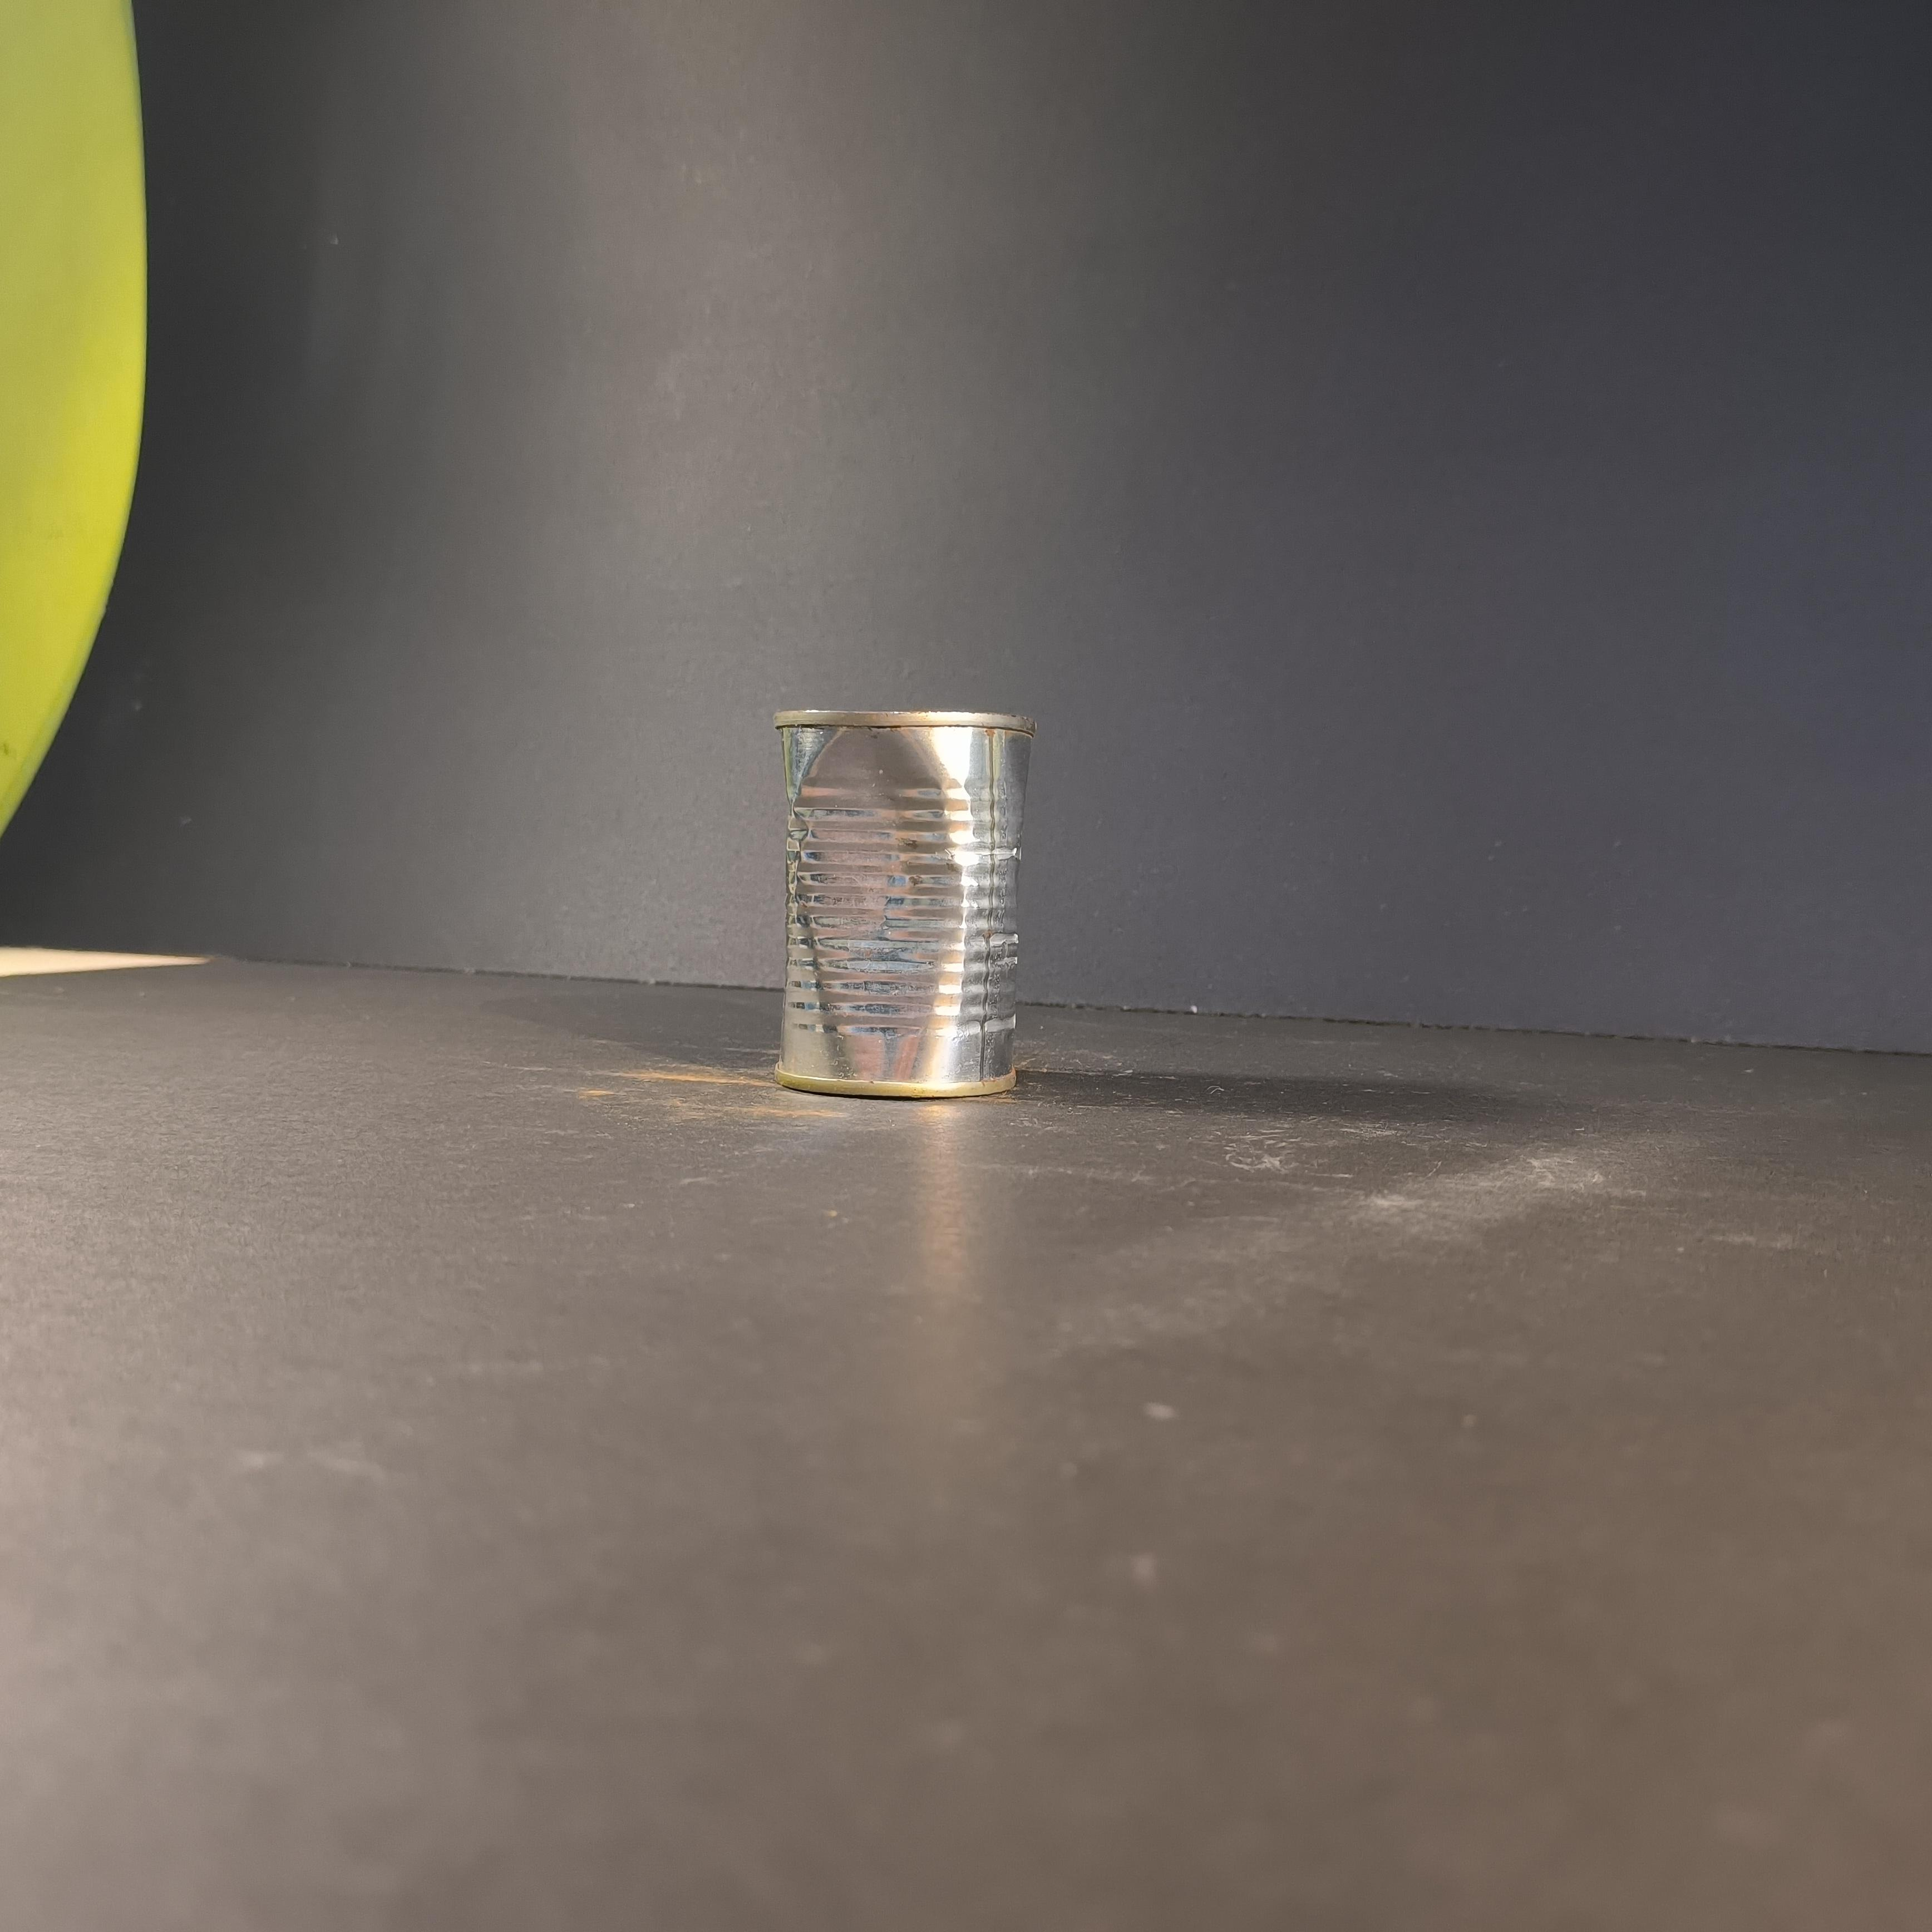Dented: (757, 694, 1049, 1116)
